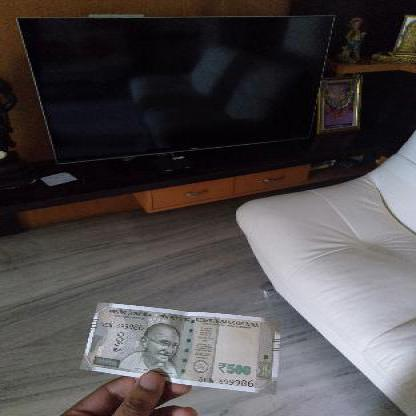New500Front: (91, 304, 277, 395)
